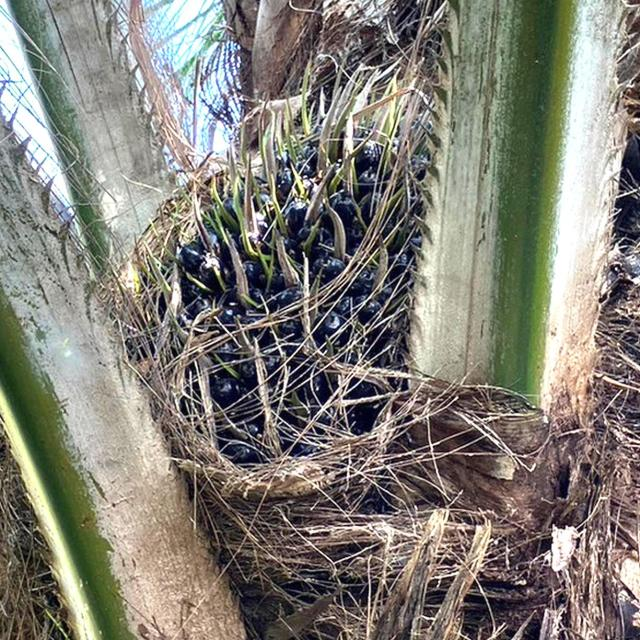unripe: (68, 39, 483, 531)
